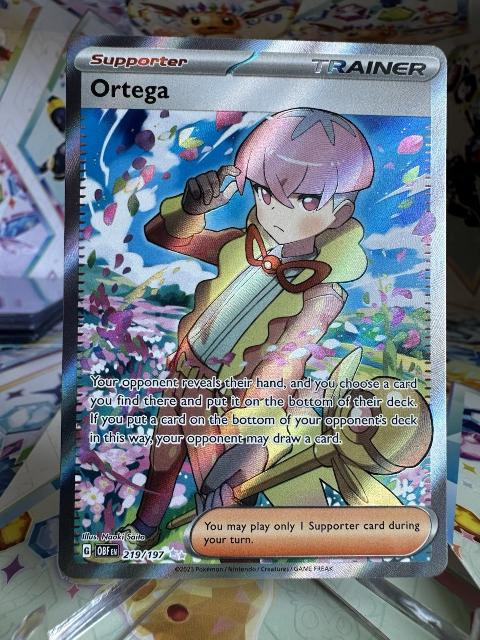Card: (54, 31, 452, 583)
Name: (85, 75, 175, 109)
